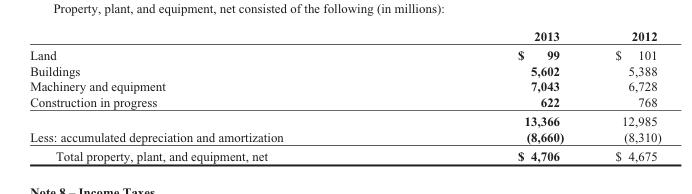table: (29, 28, 660, 163)
table column: (29, 28, 399, 163), (399, 28, 588, 163), (588, 28, 660, 163)
table column header: (29, 28, 660, 45)
table row: (29, 93, 660, 111), (29, 128, 660, 146), (29, 28, 660, 45), (29, 45, 660, 62), (29, 111, 660, 128), (29, 146, 660, 163), (29, 62, 660, 78), (29, 78, 660, 93)
